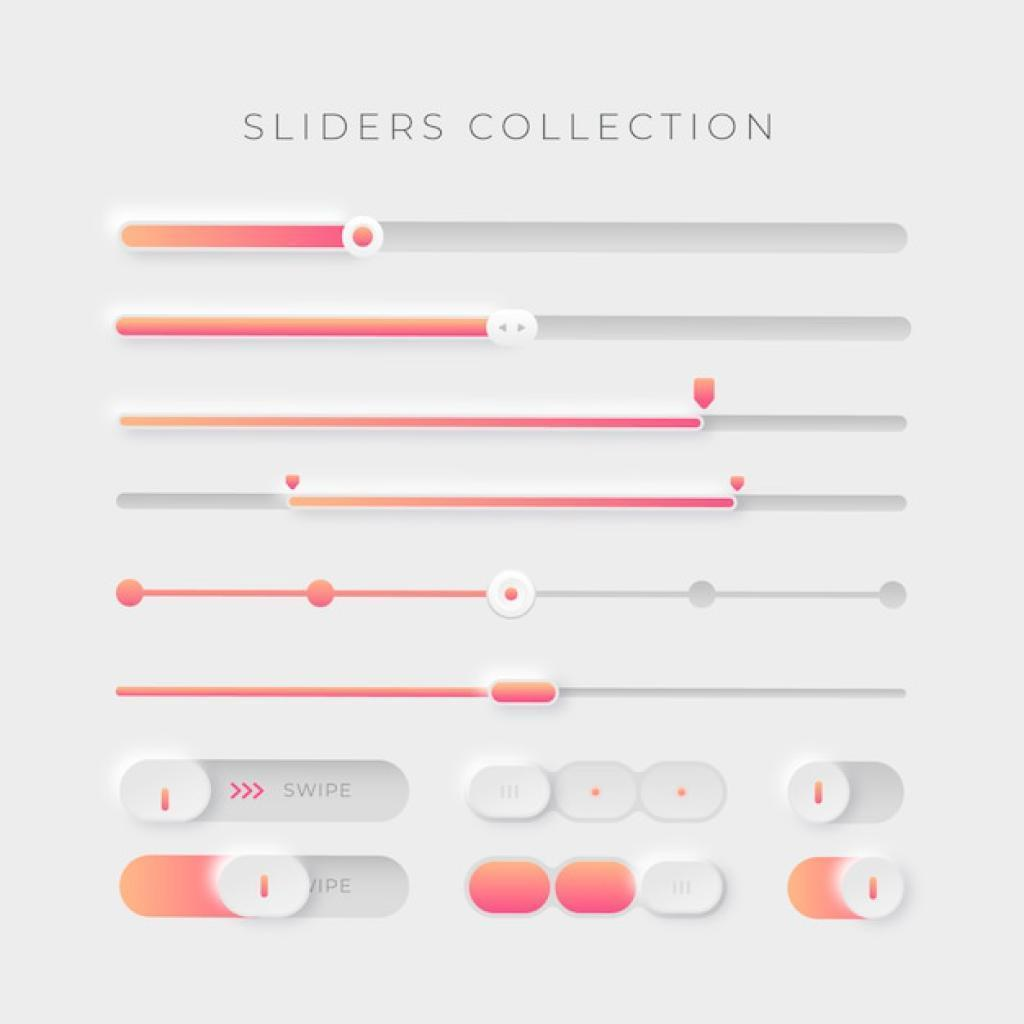slider: (116, 376, 931, 447), (106, 196, 927, 266), (100, 290, 931, 354), (110, 662, 916, 723), (118, 466, 926, 524), (102, 748, 422, 833), (102, 852, 429, 928)
switch: (787, 758, 908, 840), (783, 854, 915, 926)
